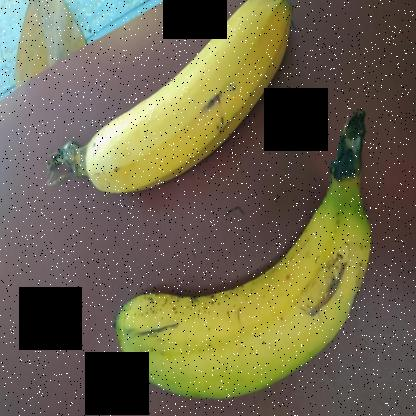freshripe: (80, 0, 302, 218)
ripe: (108, 198, 378, 415)
